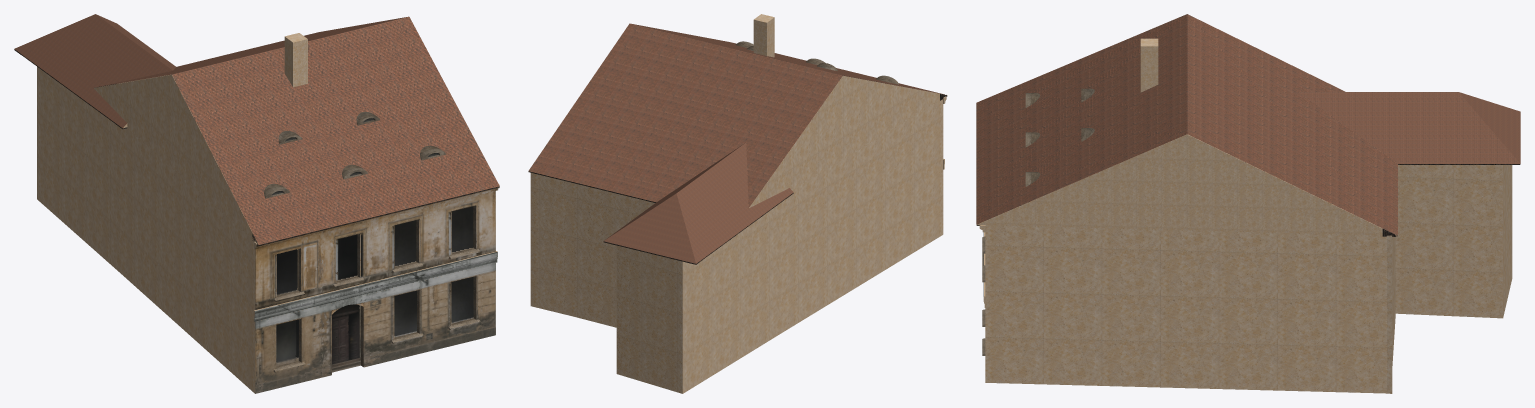
The model's file is cp111_study.glb.
The picture shows the model from 3 angles, left to right: view 1: azimuth 30°, elevation 25°; view 2: azimuth 150°, elevation 25°; view 3: azimuth 270°, elevation 25°; orthographic projection. The views are drawn at different scales.
Parts seen in each view (by area): view 1: CP_111_Masonry, CP_111_Roof, CP_111_Gable_L_gable, CP_111_WingRoof_Rear_Wing, CP_111_Cornice_sign_band_0, CP_111_Chimney_0, CP_111_Cornice_eave_0, CP_111_Roof_EaveClosure_1; view 2: CP_111_Masonry, CP_111_Roof, CP_111_WingRoof_Rear_Wing, CP_111_Gable_L_gable, CP_111_Chimney_0; view 3: CP_111_Masonry, CP_111_Roof, CP_111_Gable_R_gable, CP_111_WingRoof_Rear_Wing, CP_111_Chimney_0.
Boxes of the visible parts, <box> form: CP_111_Masonry: <box>37,67,495,393</box>; CP_111_Roof: <box>96,16,499,244</box>; CP_111_Gable_L_gable: <box>93,74,258,244</box>; CP_111_WingRoof_Rear_Wing: <box>14,14,175,128</box>; CP_111_Cornice_sign_band_0: <box>254,251,497,321</box>; CP_111_Chimney_0: <box>284,33,307,87</box>; CP_111_Cornice_eave_0: <box>254,184,499,249</box>; CP_111_Roof_EaveClosure_1: <box>252,186,499,245</box>; CP_111_Masonry: <box>530,99,943,393</box>; CP_111_Roof: <box>528,23,944,207</box>; CP_111_WingRoof_Rear_Wing: <box>603,142,793,263</box>; CP_111_Gable_L_gable: <box>749,75,947,207</box>; CP_111_Chimney_0: <box>753,14,774,57</box>; CP_111_Masonry: <box>985,165,1512,393</box>; CP_111_Roof: <box>976,14,1397,235</box>; CP_111_Gable_R_gable: <box>977,134,1397,236</box>; CP_111_WingRoof_Rear_Wing: <box>1298,92,1520,163</box>; CP_111_Chimney_0: <box>1140,38,1158,92</box>.
Bounding box in the file's own units: 12.52 × 12.2 × 21.55.
Materials: 46 (46 with a texture image).
